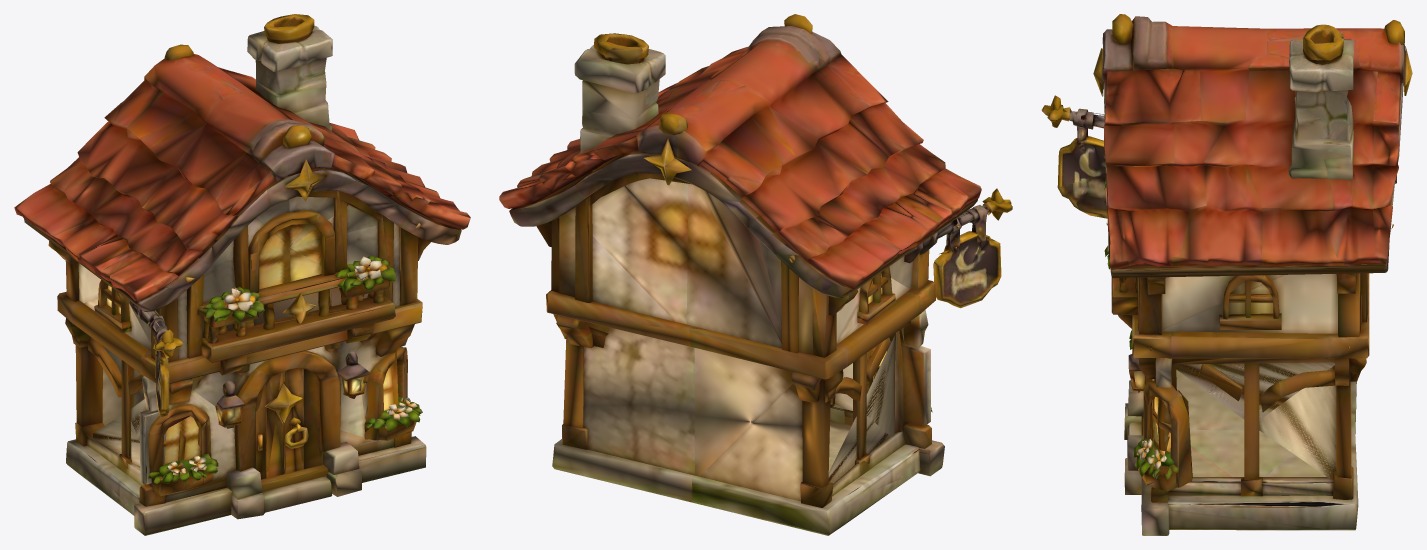
The model's file is town-inn.lod.web.glb.
3 views of the same model, side by side, from view 1: azimuth 30°, elevation 25°; view 2: azimuth 150°, elevation 25°; view 3: azimuth 270°, elevation 25° (orthographic). The views are drawn at different scales.
Parts seen in each view (by area): view 1: town-inn; view 2: town-inn; view 3: town-inn.
Part boxes in pixels (bbox=[...]): town-inn: bbox=[14, 14, 470, 535]; town-inn: bbox=[499, 14, 1012, 535]; town-inn: bbox=[1041, 14, 1412, 535].
Bounding box in the file's own units: 6.39 × 7.2 × 5.19.
Materials: 1 (1 with a texture image).
